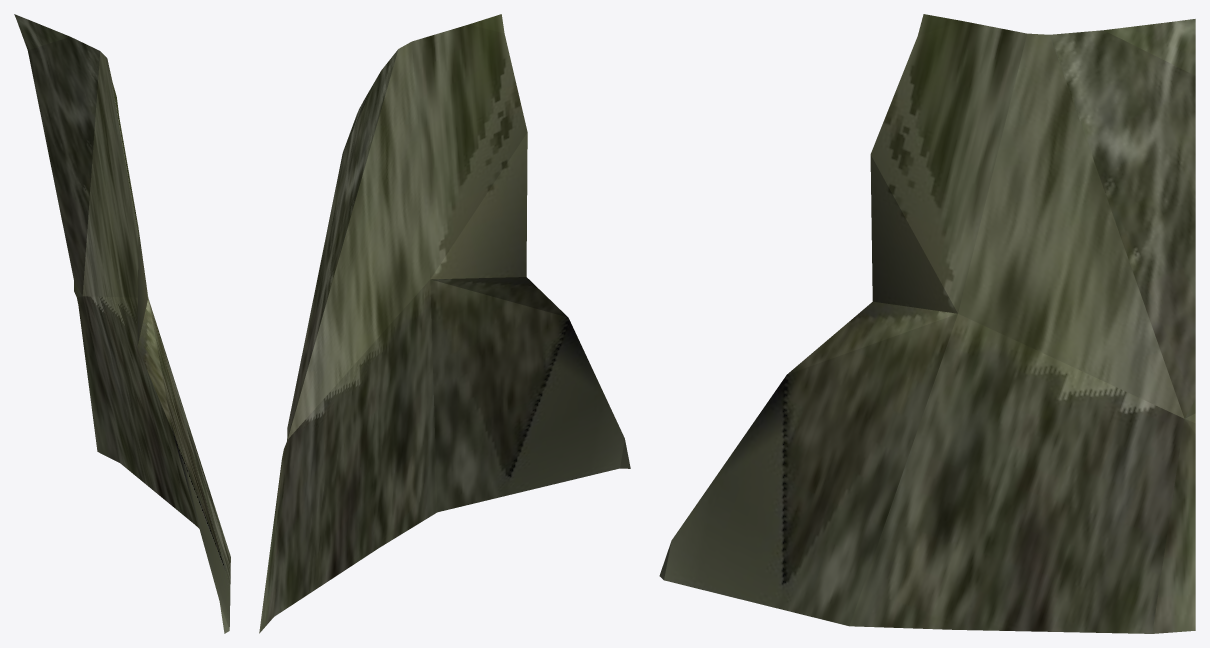
3 views of the same model, side by side, from view 1: azimuth 30°, elevation 25°; view 2: azimuth 150°, elevation 25°; view 3: azimuth 270°, elevation 25° (orthographic). The views are drawn at different scales.
Size of the model in its own units: 0.6512 by 2.95 by 2.55.
Materials: 2 (2 with a texture image).
